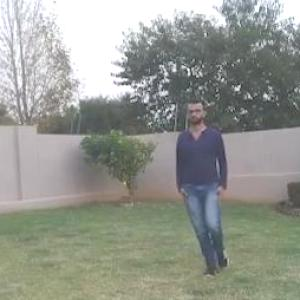follow: (179, 100, 226, 262)
